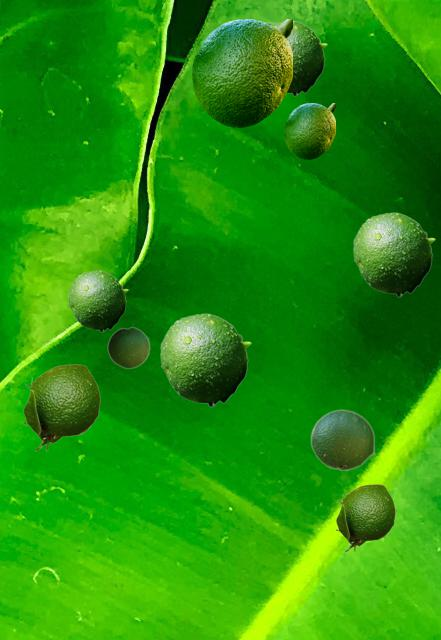dalandan: (192, 19, 291, 126), (160, 313, 250, 406), (353, 212, 434, 296), (22, 364, 99, 450), (270, 20, 326, 95), (335, 484, 394, 551), (310, 409, 374, 470), (68, 270, 127, 331), (284, 103, 334, 158), (107, 326, 149, 368)
